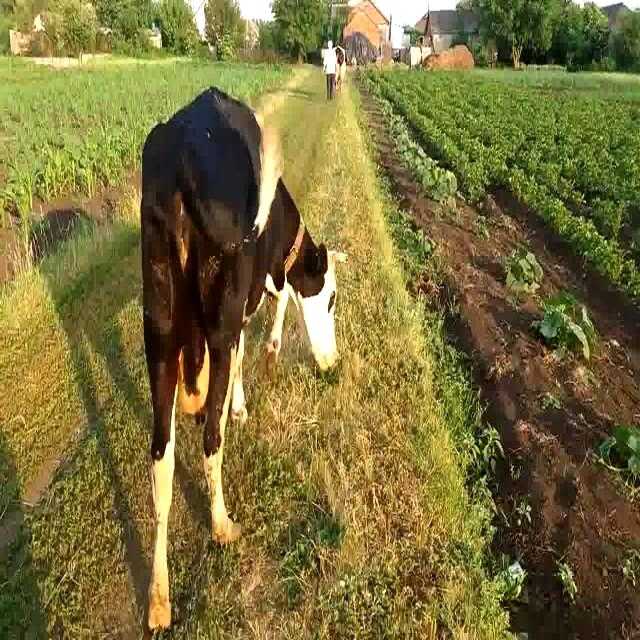COW: (142, 88, 338, 630)
